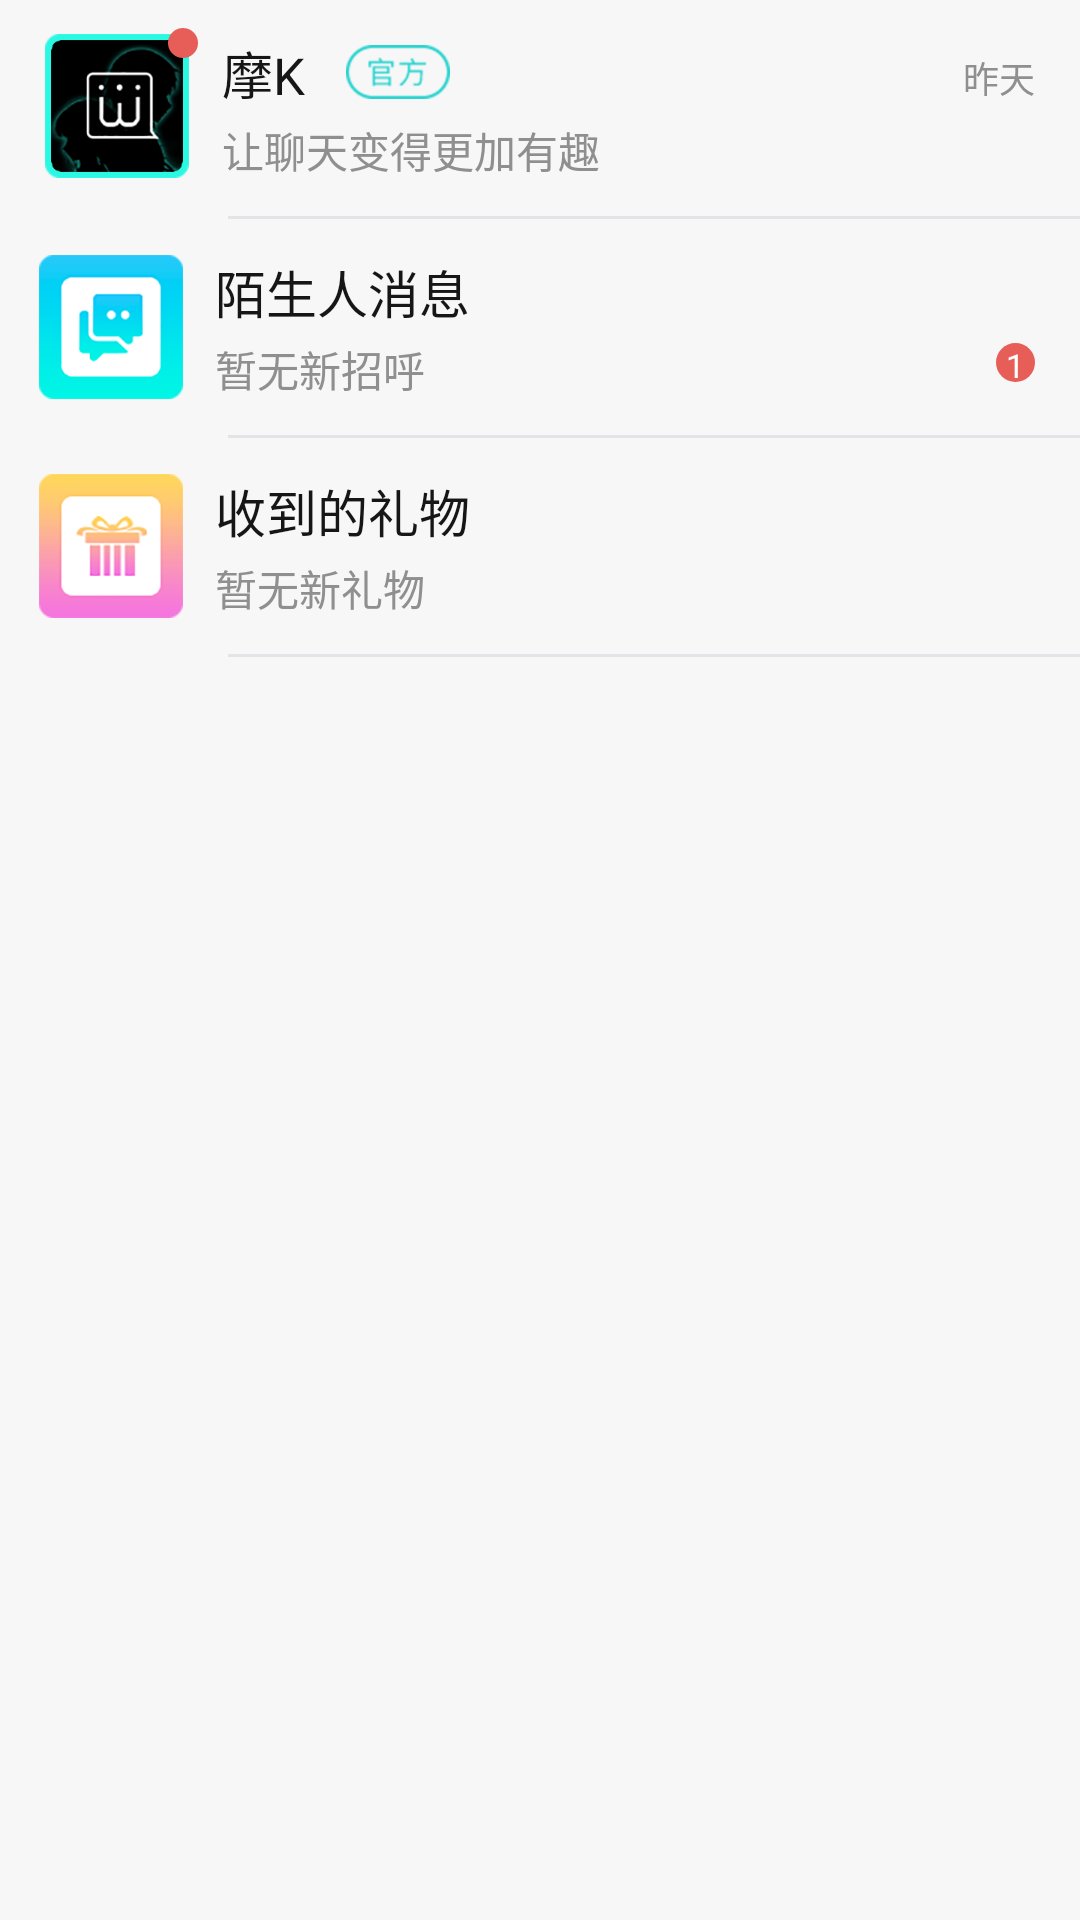

Where icons sit on this 1080 x 1920 app screen, as (x1, y1, x2, y2):
liwu: (39, 474, 183, 618)
